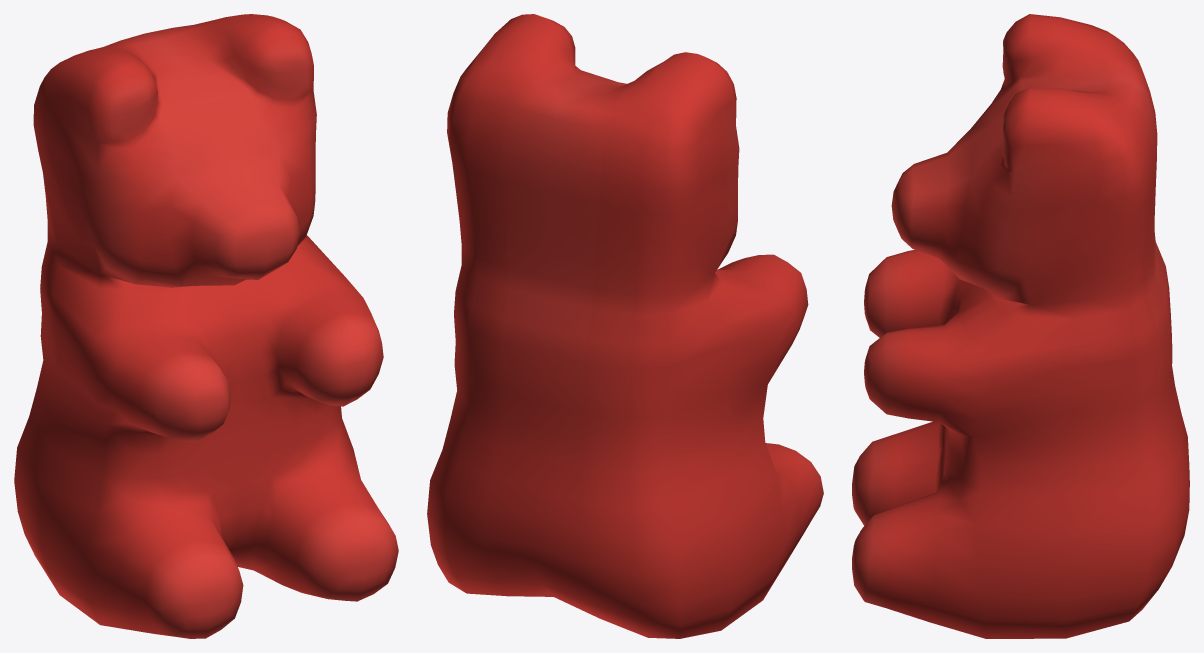
Rendered from gummi_bear_001.glb.
The picture shows the model from 3 angles, left to right: view 1: azimuth 30°, elevation 25°; view 2: azimuth 150°, elevation 25°; view 3: azimuth 270°, elevation 25°; orthographic projection. The views are drawn at different scales.
Visible parts, largest first — view 1: gummi_bear_001; view 2: gummi_bear_001; view 3: gummi_bear_001.
Part boxes in pixels (bbox=[...]): gummi_bear_001: bbox=[14, 14, 398, 638]; gummi_bear_001: bbox=[427, 14, 823, 638]; gummi_bear_001: bbox=[852, 14, 1189, 638].
Size of the model in its own units: 1.92 by 3.54 by 2.03.
1 material, 1 textured.
